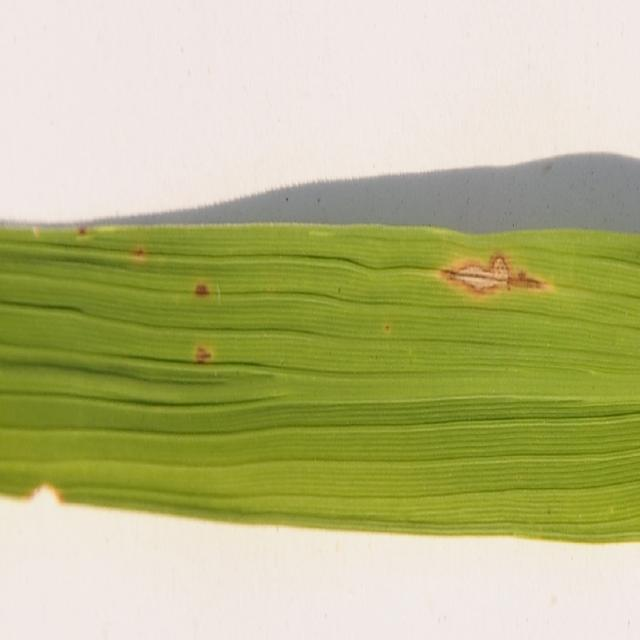brownspots: (442, 244, 557, 329), (190, 336, 220, 384), (190, 271, 218, 302), (132, 236, 146, 276), (80, 226, 90, 248)
